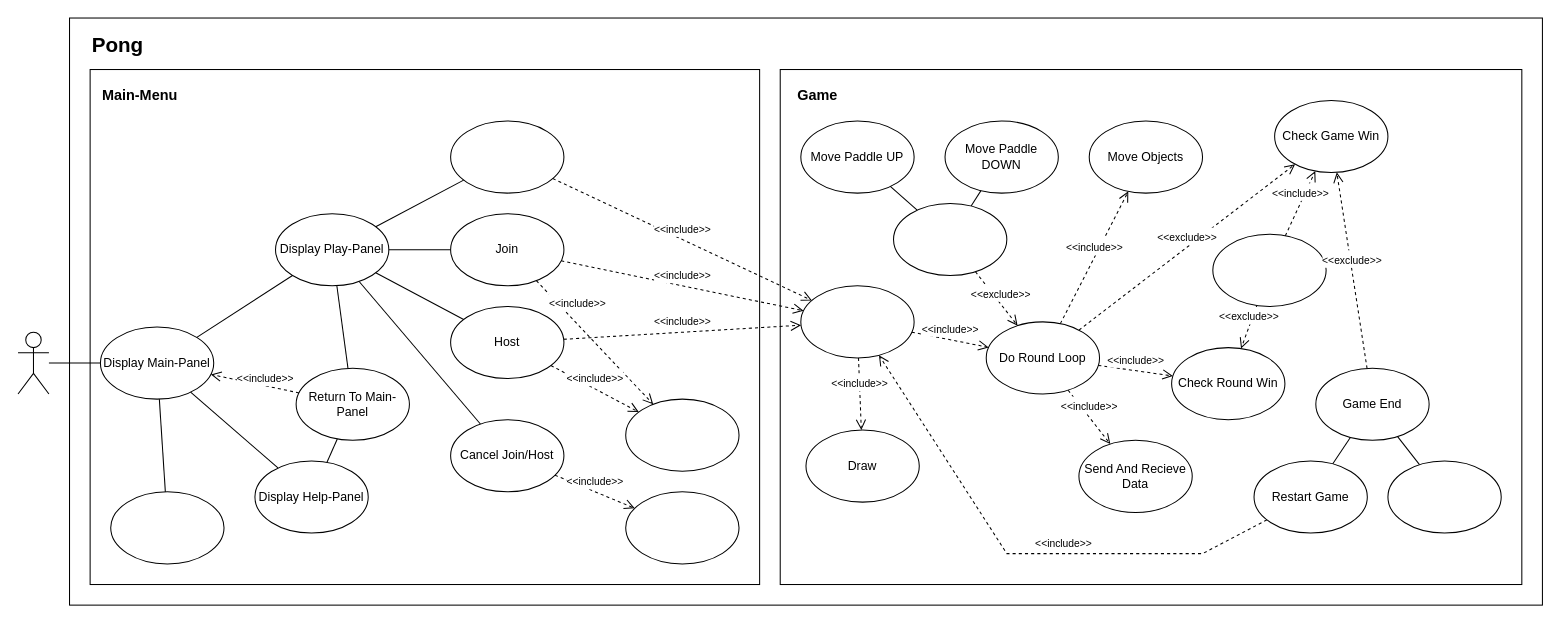
Some shapes in this 1560 by 623 pixel diagram are drawn without their labels. Here are the shapes that lost their labels. From the top down, the box of each, then its label:
(450, 120, 564, 193): Play Local
(892, 202, 1007, 276): Player Controls
(1212, 233, 1326, 306): Update Score
(800, 285, 914, 358): Start Game
(17, 331, 49, 394): User
(625, 398, 739, 471): Disable Components
(1387, 460, 1501, 533): Quit Game
(110, 491, 224, 564): Quit Main-Menu
(625, 491, 739, 564): Enable Components
